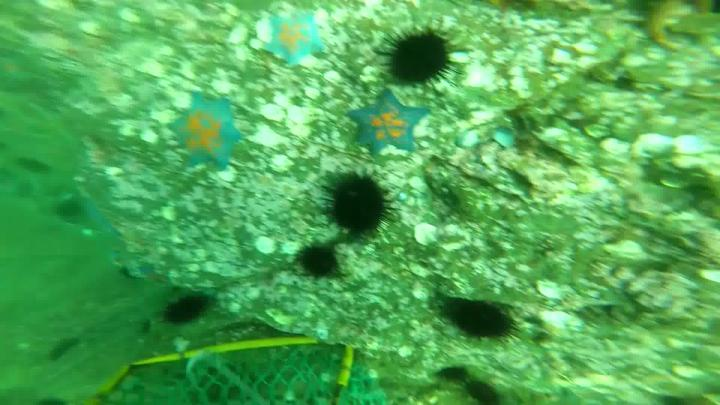echinus: (374, 30, 463, 89), (317, 173, 394, 236), (452, 295, 510, 341), (164, 296, 216, 326), (297, 247, 340, 281), (465, 380, 506, 405), (440, 367, 469, 383)
scallop: (537, 310, 584, 332), (629, 134, 672, 155), (604, 241, 649, 260), (536, 280, 577, 300), (467, 63, 498, 89), (249, 128, 285, 148), (673, 134, 706, 154), (599, 135, 633, 154), (414, 225, 442, 244), (261, 103, 285, 122), (253, 236, 278, 253), (287, 108, 312, 124), (577, 40, 600, 56), (228, 28, 249, 44)
starfish: (347, 88, 431, 160), (174, 98, 243, 173), (262, 6, 327, 66), (79, 208, 122, 257)
